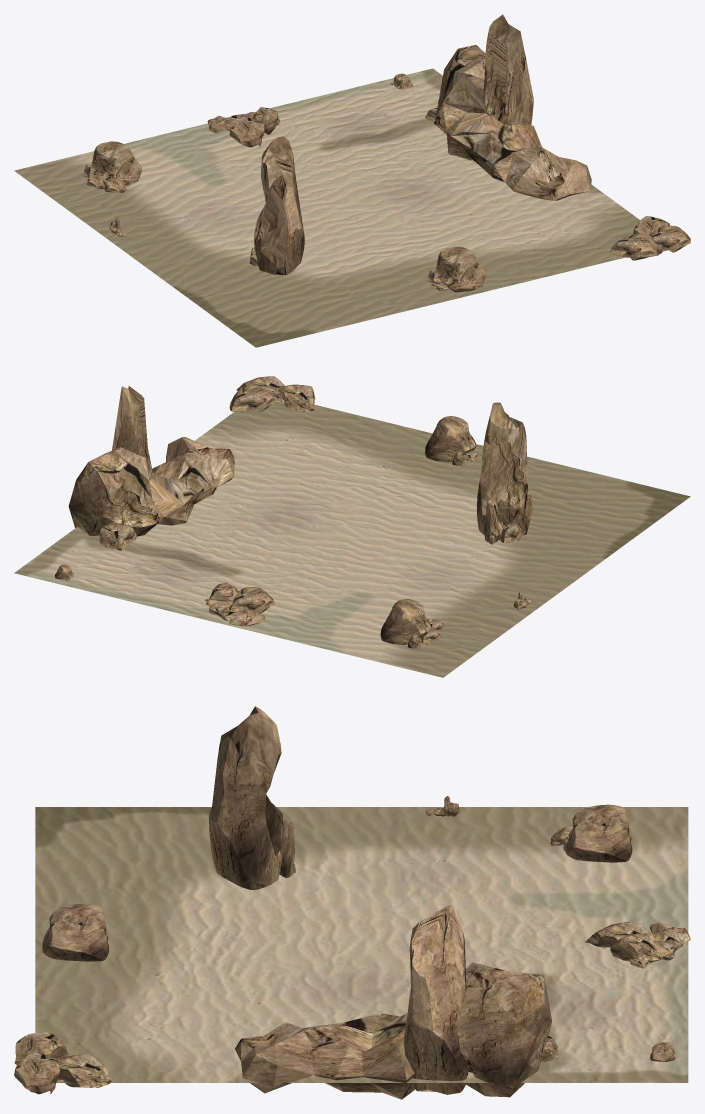
The model's file is scenario.glb.
3 views of the same model, one above another, from view 1: azimuth 30°, elevation 25°; view 2: azimuth 150°, elevation 25°; view 3: azimuth 270°, elevation 25° (orthographic). The views are drawn at different scales.
Visible parts, largest first — view 1: Sand, Rock A, Rock C, Rock E, Rock I, Rock H, Rock F, Rock B; view 2: Sand, Rock A, Rock C, Rock E, Rock H, Rock I, Rock F; view 3: Sand, Rock A, Rock C, Rock E, Rock I, Rock F, Rock H.
Part boxes in pixels (x1,y1,x2,y2): Sand: [14, 68, 640, 347]; Rock A: [425, 14, 591, 200]; Rock C: [249, 136, 304, 274]; Rock E: [609, 216, 690, 260]; Rock I: [427, 246, 486, 292]; Rock H: [207, 107, 280, 147]; Rock F: [83, 141, 141, 183]; Rock B: [87, 173, 132, 192]; Sand: [14, 401, 690, 677]; Rock A: [68, 386, 234, 550]; Rock C: [477, 402, 532, 544]; Rock E: [229, 376, 315, 412]; Rock H: [205, 582, 274, 626]; Rock I: [425, 416, 478, 466]; Rock F: [380, 599, 431, 648]; Sand: [35, 807, 688, 1082]; Rock A: [235, 904, 558, 1099]; Rock C: [209, 706, 295, 889]; Rock E: [14, 1032, 111, 1094]; Rock I: [42, 904, 108, 961]; Rock F: [565, 804, 632, 862]; Rock H: [585, 921, 690, 968].
Size of the model in its own units: 62.88 by 19.95 by 62.33.
Materials: 2 (2 with a texture image).
